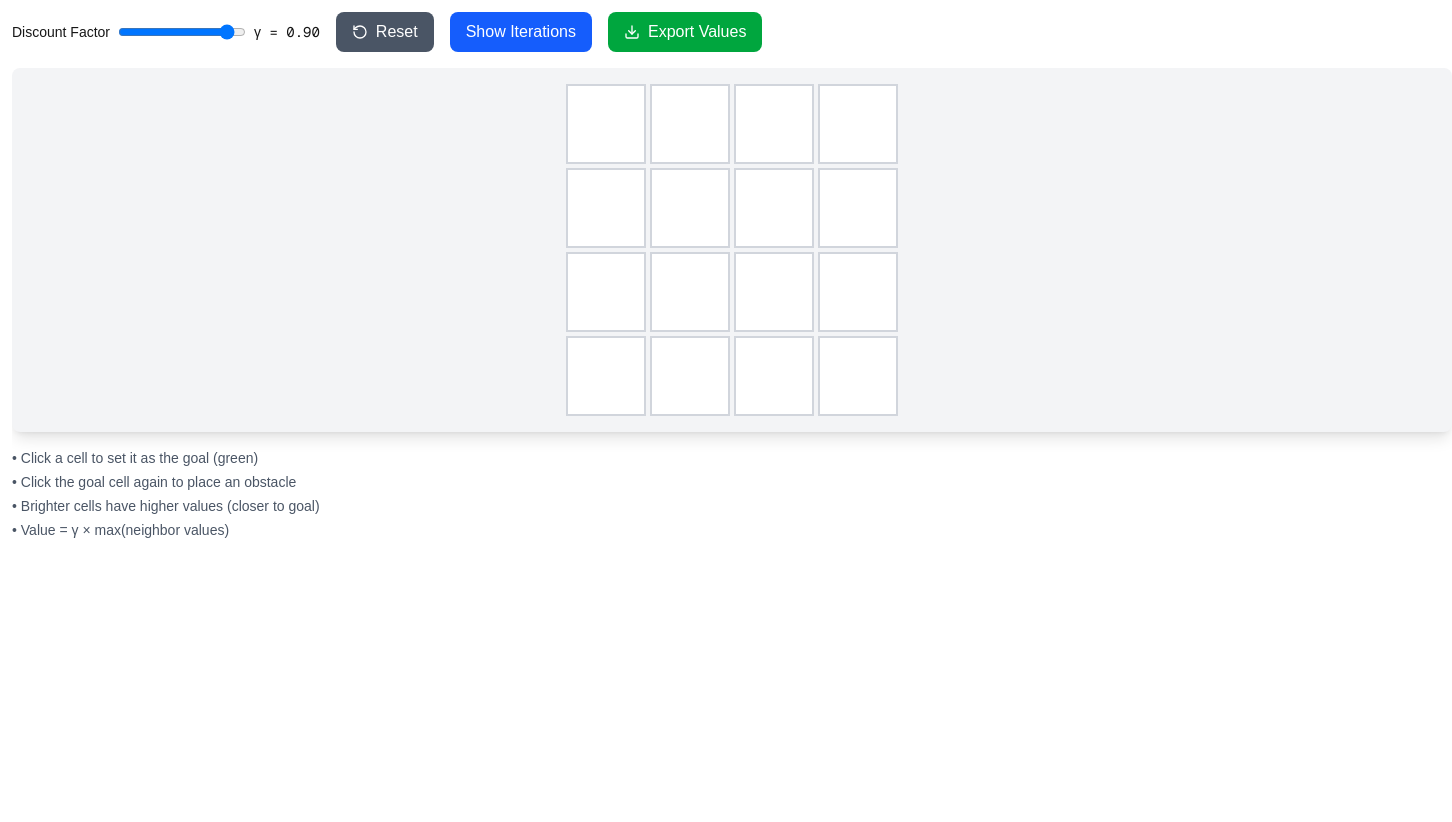
Test: ValueFunctionVisualizer Component › should export value function data
Click the button "Export Values": (685, 32) [608,12,762,52]
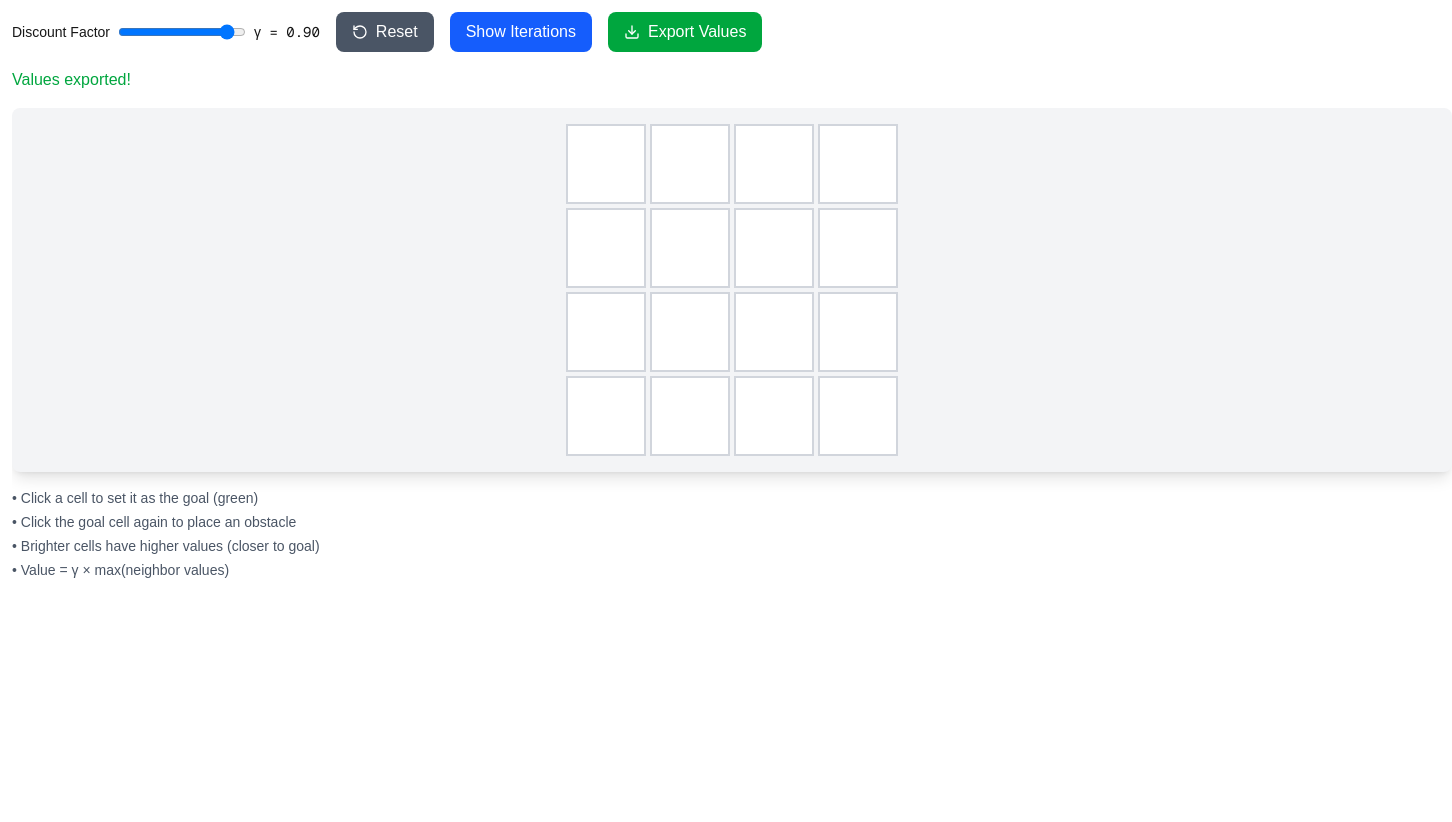
Result: the text "Values exported!" is shown at [12,71,131,88]
